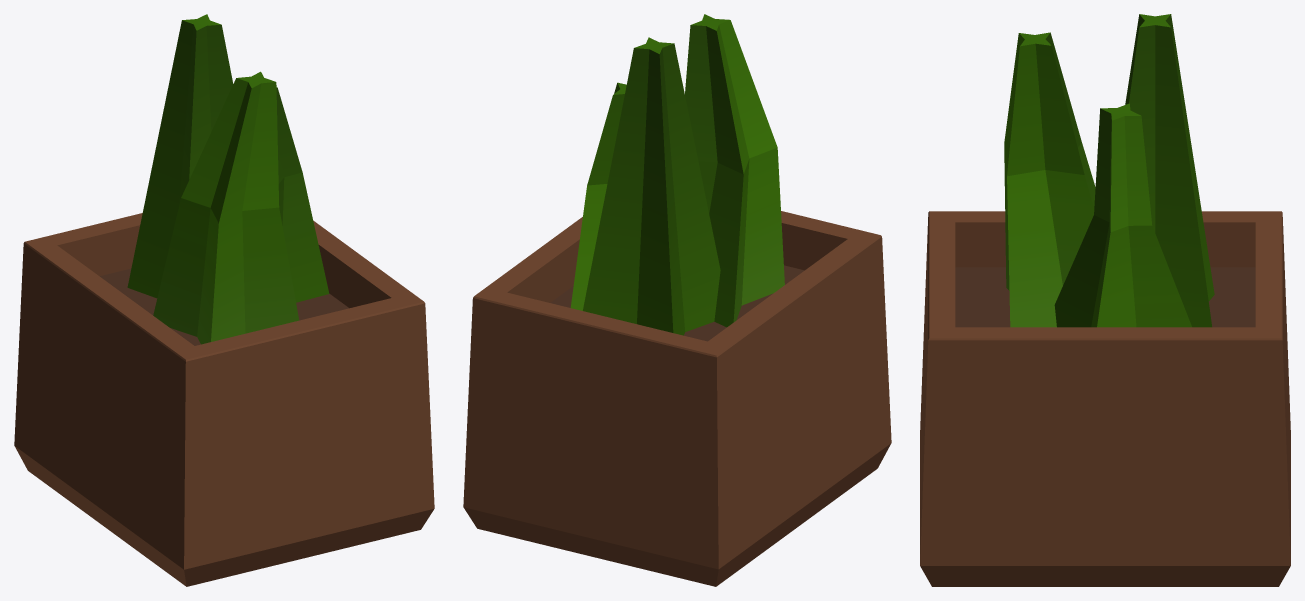
File: PlantV1.fbx
The picture shows the model from 3 angles, left to right: view 1: azimuth 30°, elevation 25°; view 2: azimuth 150°, elevation 25°; view 3: azimuth 270°, elevation 25°; orthographic projection. The views are drawn at different scales.
Visible parts, largest first — view 1: PlantV1; view 2: PlantV1; view 3: PlantV1.
Boxes of the visible parts, x1,y1,x2,y2 form: PlantV1: (14, 14, 434, 586); PlantV1: (463, 14, 891, 586); PlantV1: (920, 14, 1290, 586).
Size of the model in its own units: 17.11 by 30.09 by 20.07.
